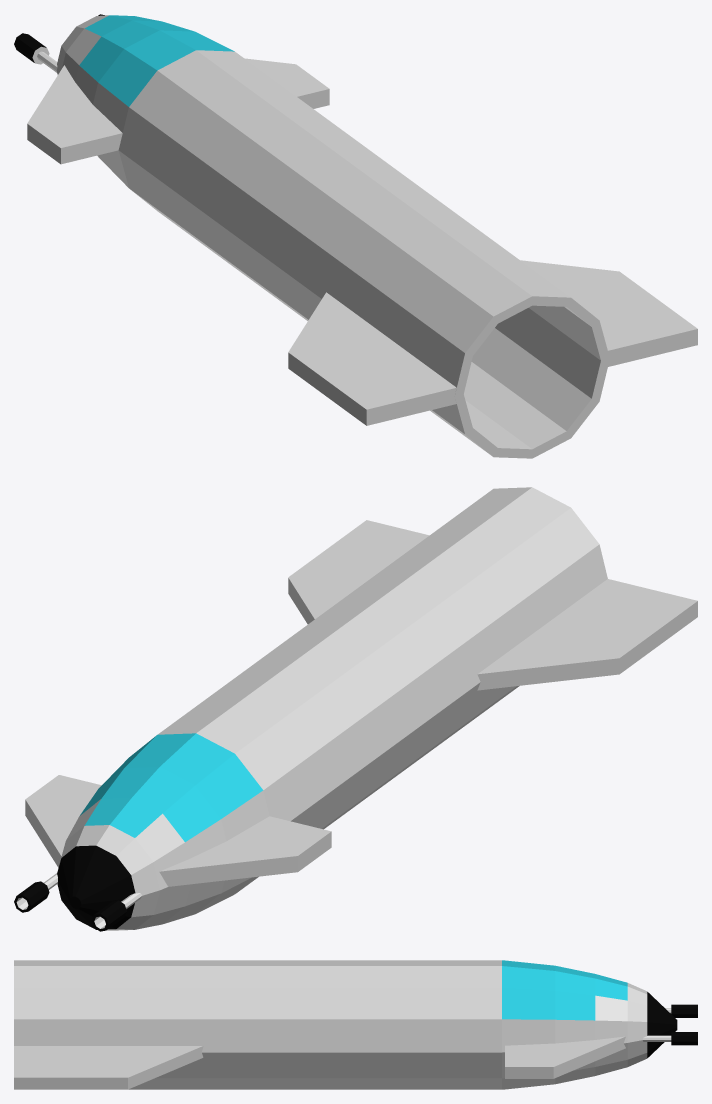
Rendered from StarShipWar.fbx.
3 views of the same model, one above another, from view 1: azimuth 30°, elevation 25°; view 2: azimuth 150°, elevation 25°; view 3: azimuth 270°, elevation 25° (orthographic). The views are drawn at different scales.
Parts seen in each view (by area): view 1: Body; view 2: Body; view 3: Body.
Boxes of the visible parts, <box> form: Body: <box>14,14,697,458</box>; Body: <box>14,487,697,931</box>; Body: <box>14,960,697,1089</box>.
Bounding box in the file's own units: 4.27 × 2 × 10.51.
